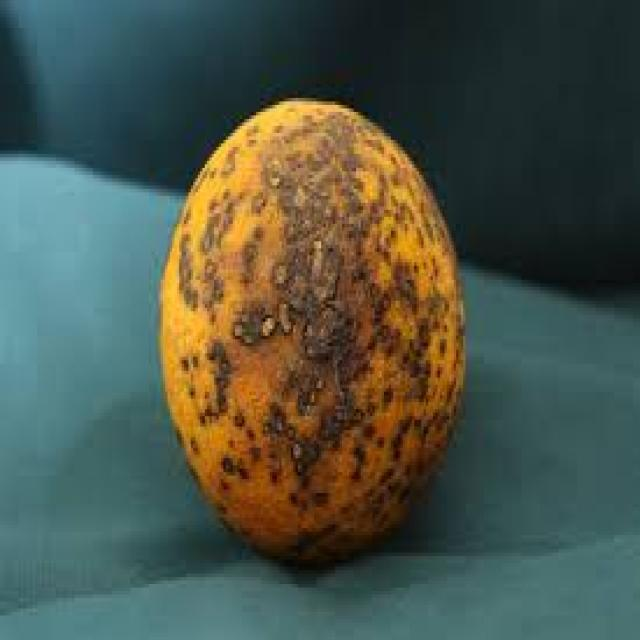black spot: (159, 90, 468, 568)
